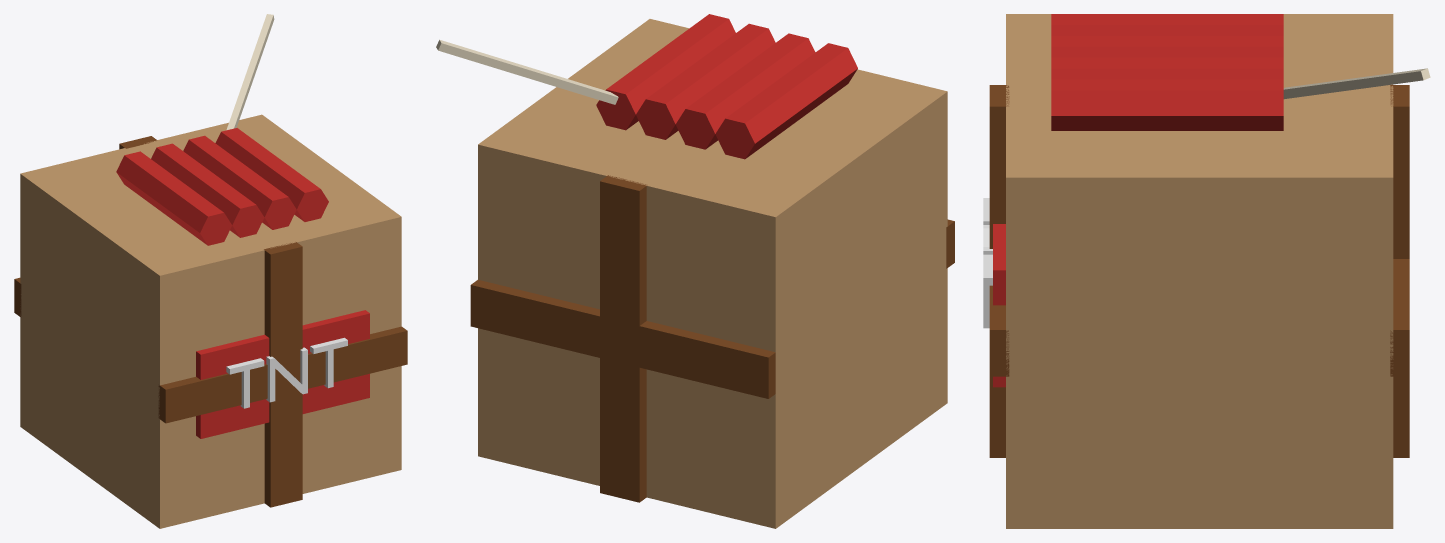
The model's file is Mining_TNTCrate.fbx.
3 renders of one model, left to right at view 1: azimuth 30°, elevation 25°; view 2: azimuth 150°, elevation 25°; view 3: azimuth 270°, elevation 25°, orthographic. The views are drawn at different scales.
Visible parts, largest first — view 1: Mining_TNTCrate; view 2: Mining_TNTCrate; view 3: Mining_TNTCrate.
Part boxes in pixels (box(x1,y1,x2,y2)): Mining_TNTCrate: box(14, 14, 407, 528); Mining_TNTCrate: box(436, 14, 954, 528); Mining_TNTCrate: box(983, 14, 1430, 528).
Size of the model in its own units: 0.6574 by 0.8069 by 0.6925.
